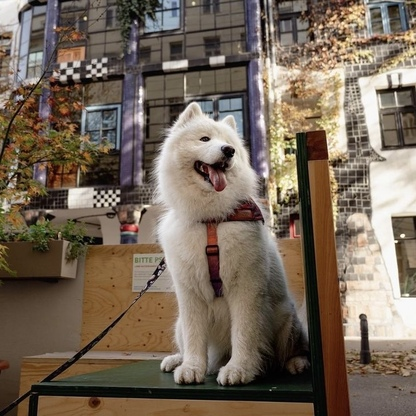samoyed: (147, 96, 314, 389)
